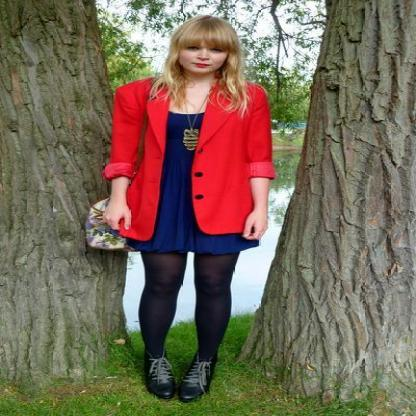bag: (79, 214, 129, 248)
dress: (137, 112, 258, 257)
jacket: (103, 76, 273, 240)
shoe: (150, 351, 211, 392)
